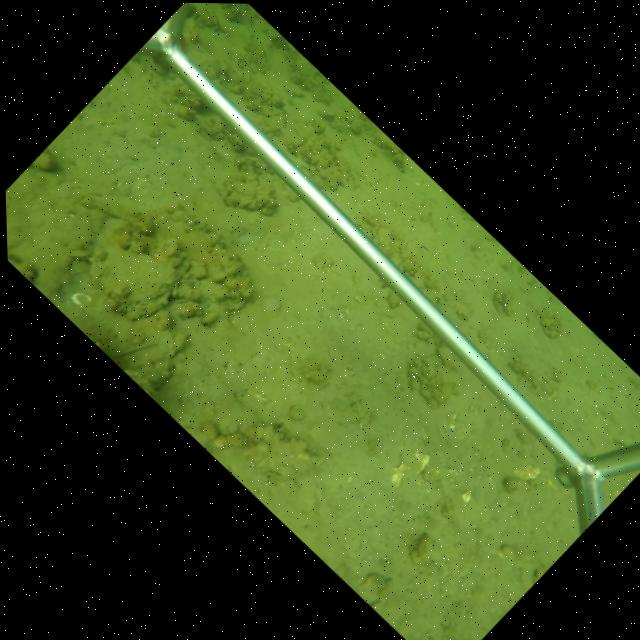Oyster-Closed: (88, 222, 183, 319)
Oyster-Indeterminate: (221, 175, 261, 209)
Oyster-Open: (431, 345, 450, 366)
